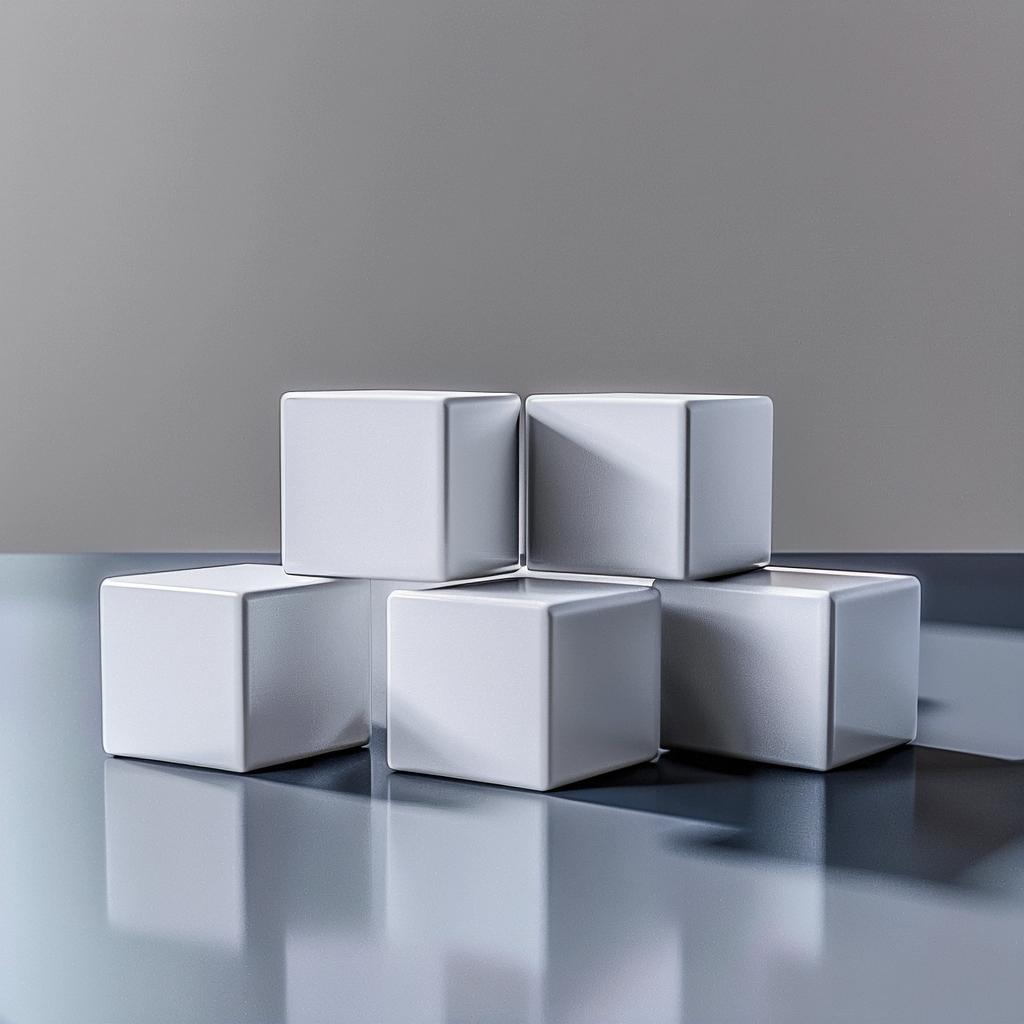cube: (385, 574, 662, 792), (98, 561, 372, 773), (653, 565, 921, 772), (524, 391, 773, 581), (279, 388, 521, 583)
